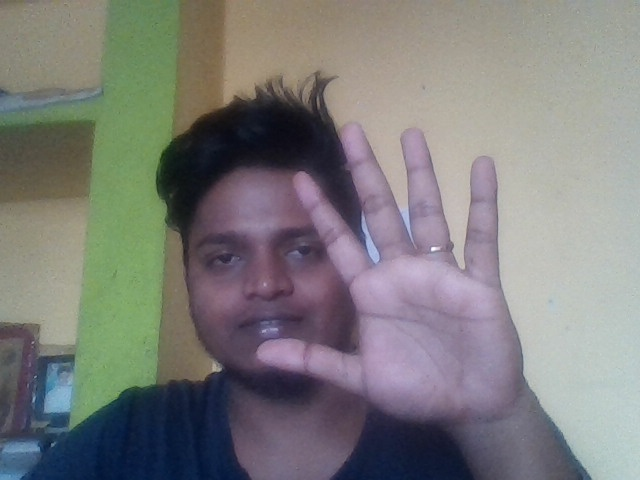Hello: (253, 115, 557, 426)
